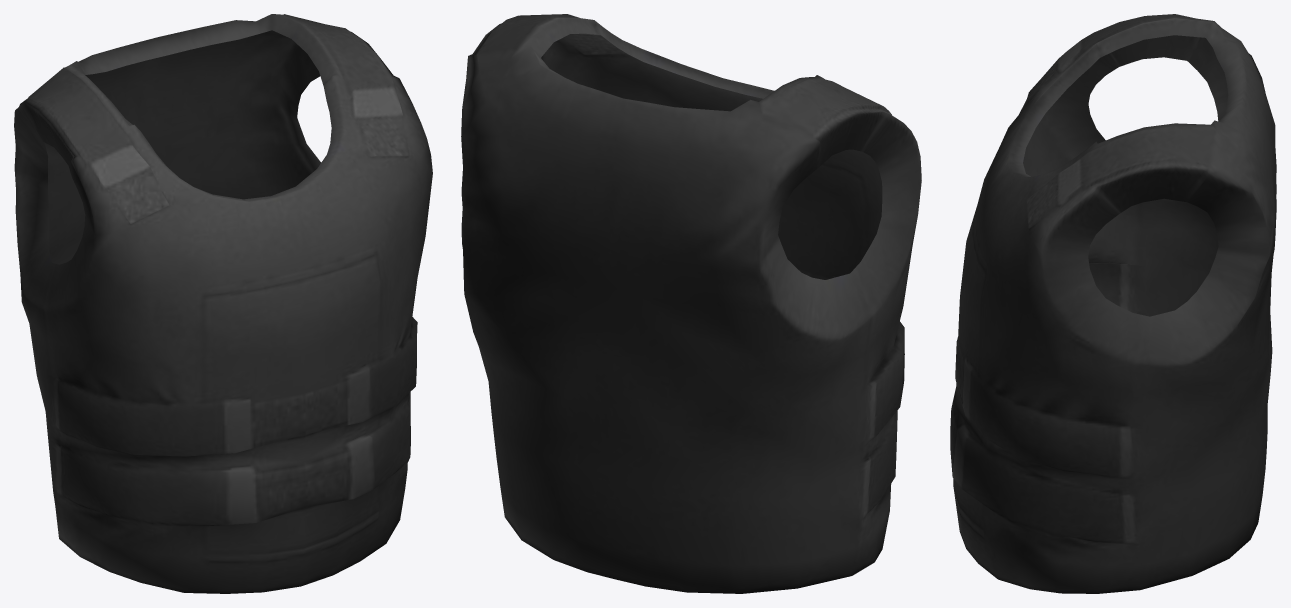
File: Vest_Black.fbx
3 renders of one model, left to right at view 1: azimuth 30°, elevation 25°; view 2: azimuth 150°, elevation 25°; view 3: azimuth 270°, elevation 25°, orthographic. The views are drawn at different scales.
Visible parts, largest first — view 1: GunMesh; view 2: GunMesh; view 3: GunMesh.
Part boxes in pixels (<box>): GunMesh: <box>14,14,432,593</box>; GunMesh: <box>461,14,921,593</box>; GunMesh: <box>950,14,1276,593</box>.
Bounding box in the file's own units: 0.4783 × 0.6 × 0.3846.
Materials: 1 (1 with a texture image).
